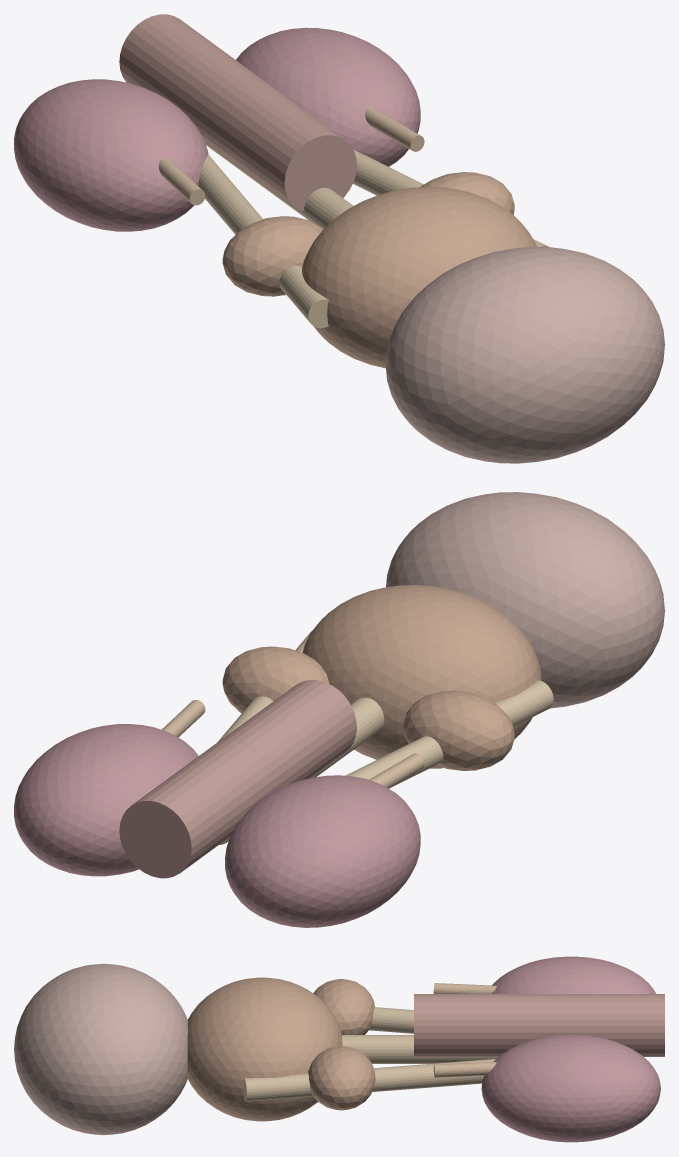
Rendered from male-high.glb.
3 views of the same model, one above another, from view 1: azimuth 30°, elevation 25°; view 2: azimuth 150°, elevation 25°; view 3: azimuth 270°, elevation 25° (orthographic). The views are drawn at different scales.
Visible parts, largest first — view 1: bladder_reference, left_testis, prostate_proxy, erectile_tissue_proxy, right_testis, left_seminal_vesicle_proxy, left_vas_deferens_proxy, right_vas_deferens_proxy, urethral_path_proxy, right_seminal_vesicle_proxy, right_epididymis_proxy, left_epididymis_proxy; view 2: bladder_reference, left_testis, prostate_proxy, erectile_tissue_proxy, right_testis, left_seminal_vesicle_proxy, right_seminal_vesicle_proxy, left_vas_deferens_proxy, urethral_path_proxy, left_epididymis_proxy, right_epididymis_proxy, right_vas_deferens_proxy; view 3: bladder_reference, prostate_proxy, right_testis, erectile_tissue_proxy, left_testis, right_vas_deferens_proxy, right_seminal_vesicle_proxy, left_seminal_vesicle_proxy, urethral_path_proxy, left_vas_deferens_proxy, right_epididymis_proxy, left_epididymis_proxy.
Part boxes in pixels (x1,y1,x2,y2): bladder_reference: [385, 247, 664, 463]; left_testis: [14, 79, 208, 231]; prostate_proxy: [302, 187, 536, 368]; erectile_tissue_proxy: [119, 14, 356, 211]; right_testis: [236, 27, 420, 166]; left_seminal_vesicle_proxy: [222, 216, 323, 296]; left_vas_deferens_proxy: [198, 154, 328, 328]; right_vas_deferens_proxy: [353, 149, 549, 247]; urethral_path_proxy: [204, 141, 353, 228]; right_seminal_vesicle_proxy: [420, 172, 514, 214]; right_epididymis_proxy: [365, 107, 424, 151]; left_epididymis_proxy: [159, 157, 205, 205]; bladder_reference: [386, 492, 664, 708]; left_testis: [225, 775, 420, 927]; prostate_proxy: [302, 585, 541, 768]; erectile_tissue_proxy: [119, 680, 356, 878]; right_testis: [14, 724, 198, 876]; left_seminal_vesicle_proxy: [403, 690, 514, 770]; right_seminal_vesicle_proxy: [222, 646, 329, 713]; left_vas_deferens_proxy: [345, 680, 553, 788]; urethral_path_proxy: [219, 697, 384, 844]; left_epididymis_proxy: [369, 753, 424, 788]; right_epididymis_proxy: [161, 700, 205, 737]; right_vas_deferens_proxy: [217, 630, 312, 742]; bladder_reference: [14, 963, 187, 1135]; prostate_proxy: [187, 977, 342, 1121]; right_testis: [481, 1034, 660, 1142]; erectile_tissue_proxy: [414, 994, 664, 1056]; left_testis: [492, 956, 656, 993]; right_vas_deferens_proxy: [244, 1058, 496, 1101]; right_seminal_vesicle_proxy: [308, 1046, 375, 1110]; left_seminal_vesicle_proxy: [313, 979, 374, 1034]; urethral_path_proxy: [342, 1035, 497, 1063]; left_vas_deferens_proxy: [369, 1007, 413, 1033]; right_epididymis_proxy: [433, 1062, 496, 1077]; left_epididymis_proxy: [433, 983, 496, 993].
Bounding box in the file's own units: 1.22 × 0.6 × 2.46.
